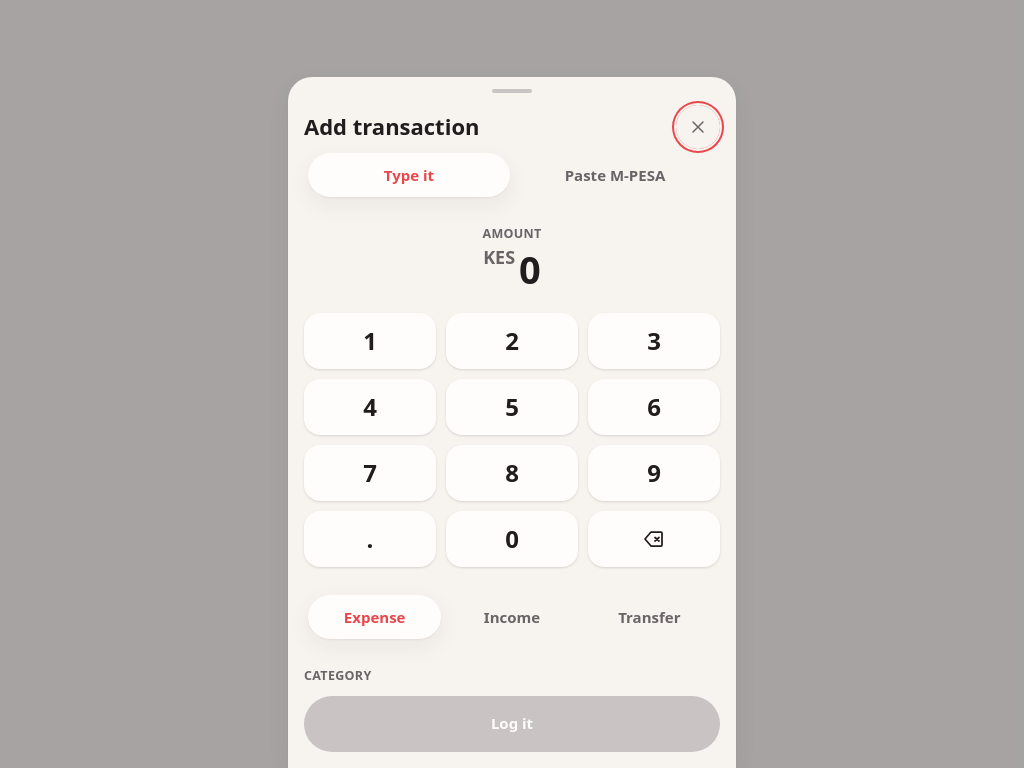
AddTransactionSheet › a mutation failure shows a non-shaming toast and keeps the sheet open
Click the button named "Digit 5": coordinates (512, 407) [446, 379, 578, 435]
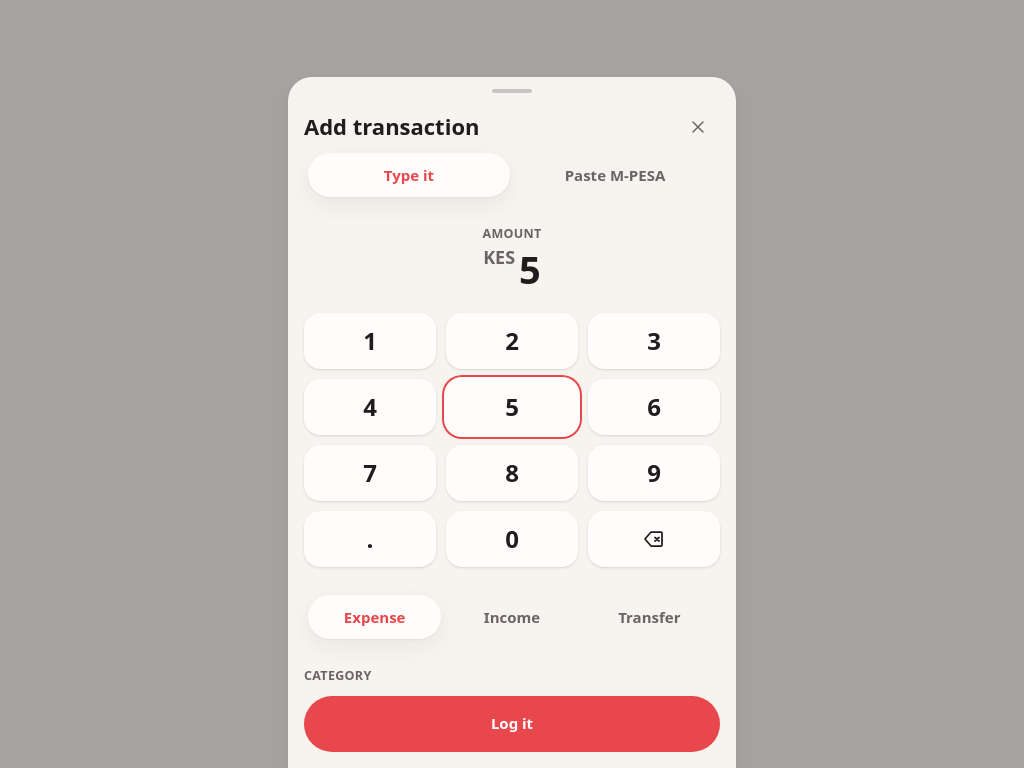
Click the button named "Digit 0": coordinates (512, 539) [446, 511, 578, 567]
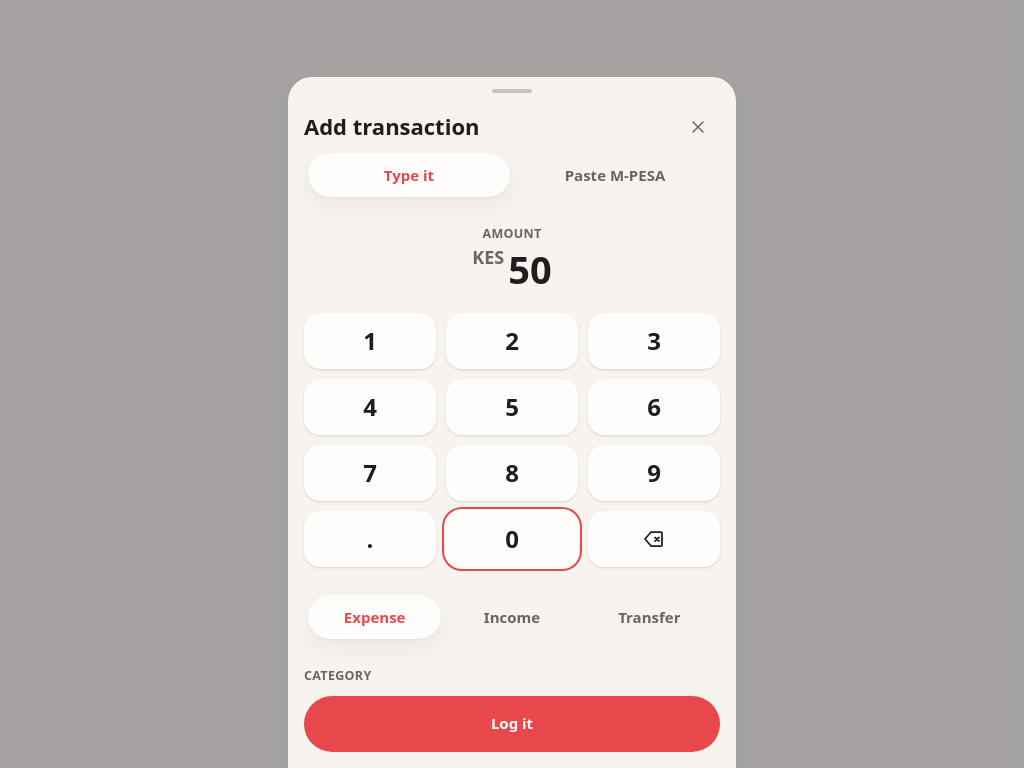
Click the button named "Digit 0": coordinates (512, 539) [446, 511, 578, 567]
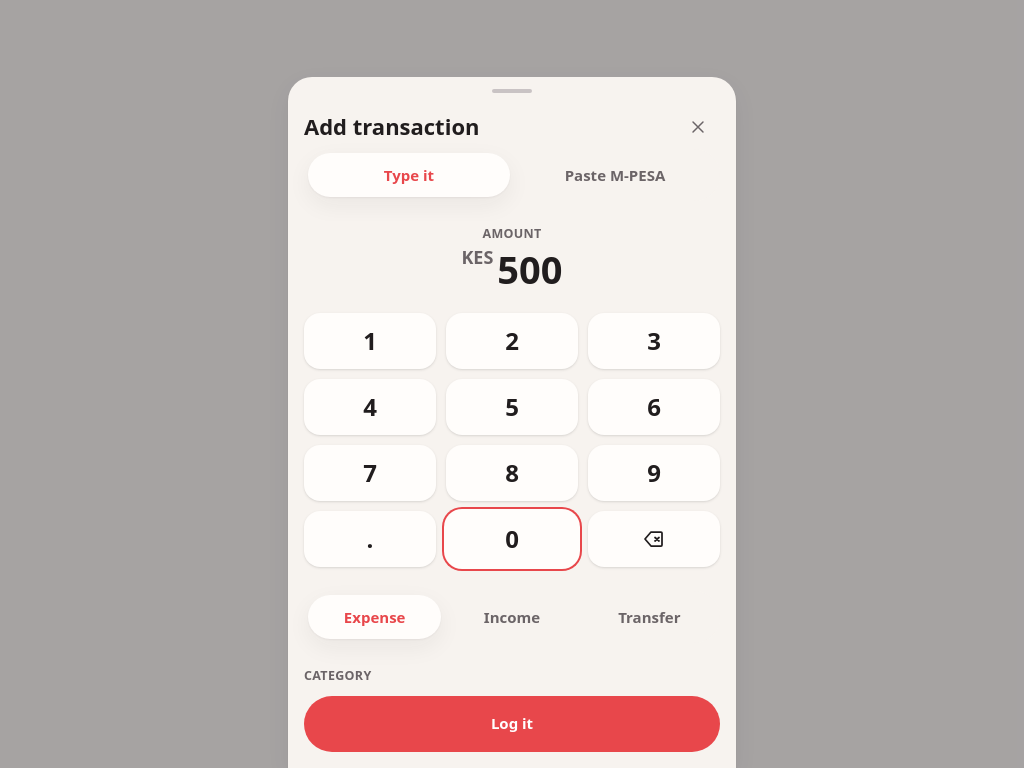
Click the button "Log it": coordinates (512, 724) [304, 696, 720, 752]
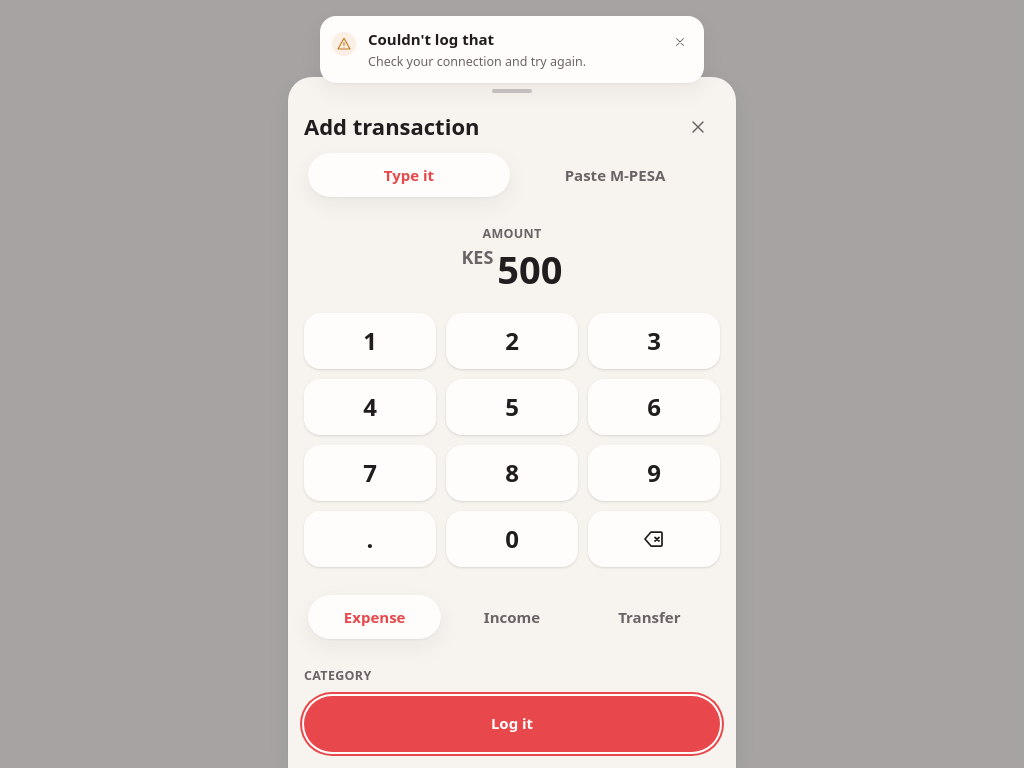
Expected: the text "Couldn't log that" is shown, [368, 29, 494, 49]
